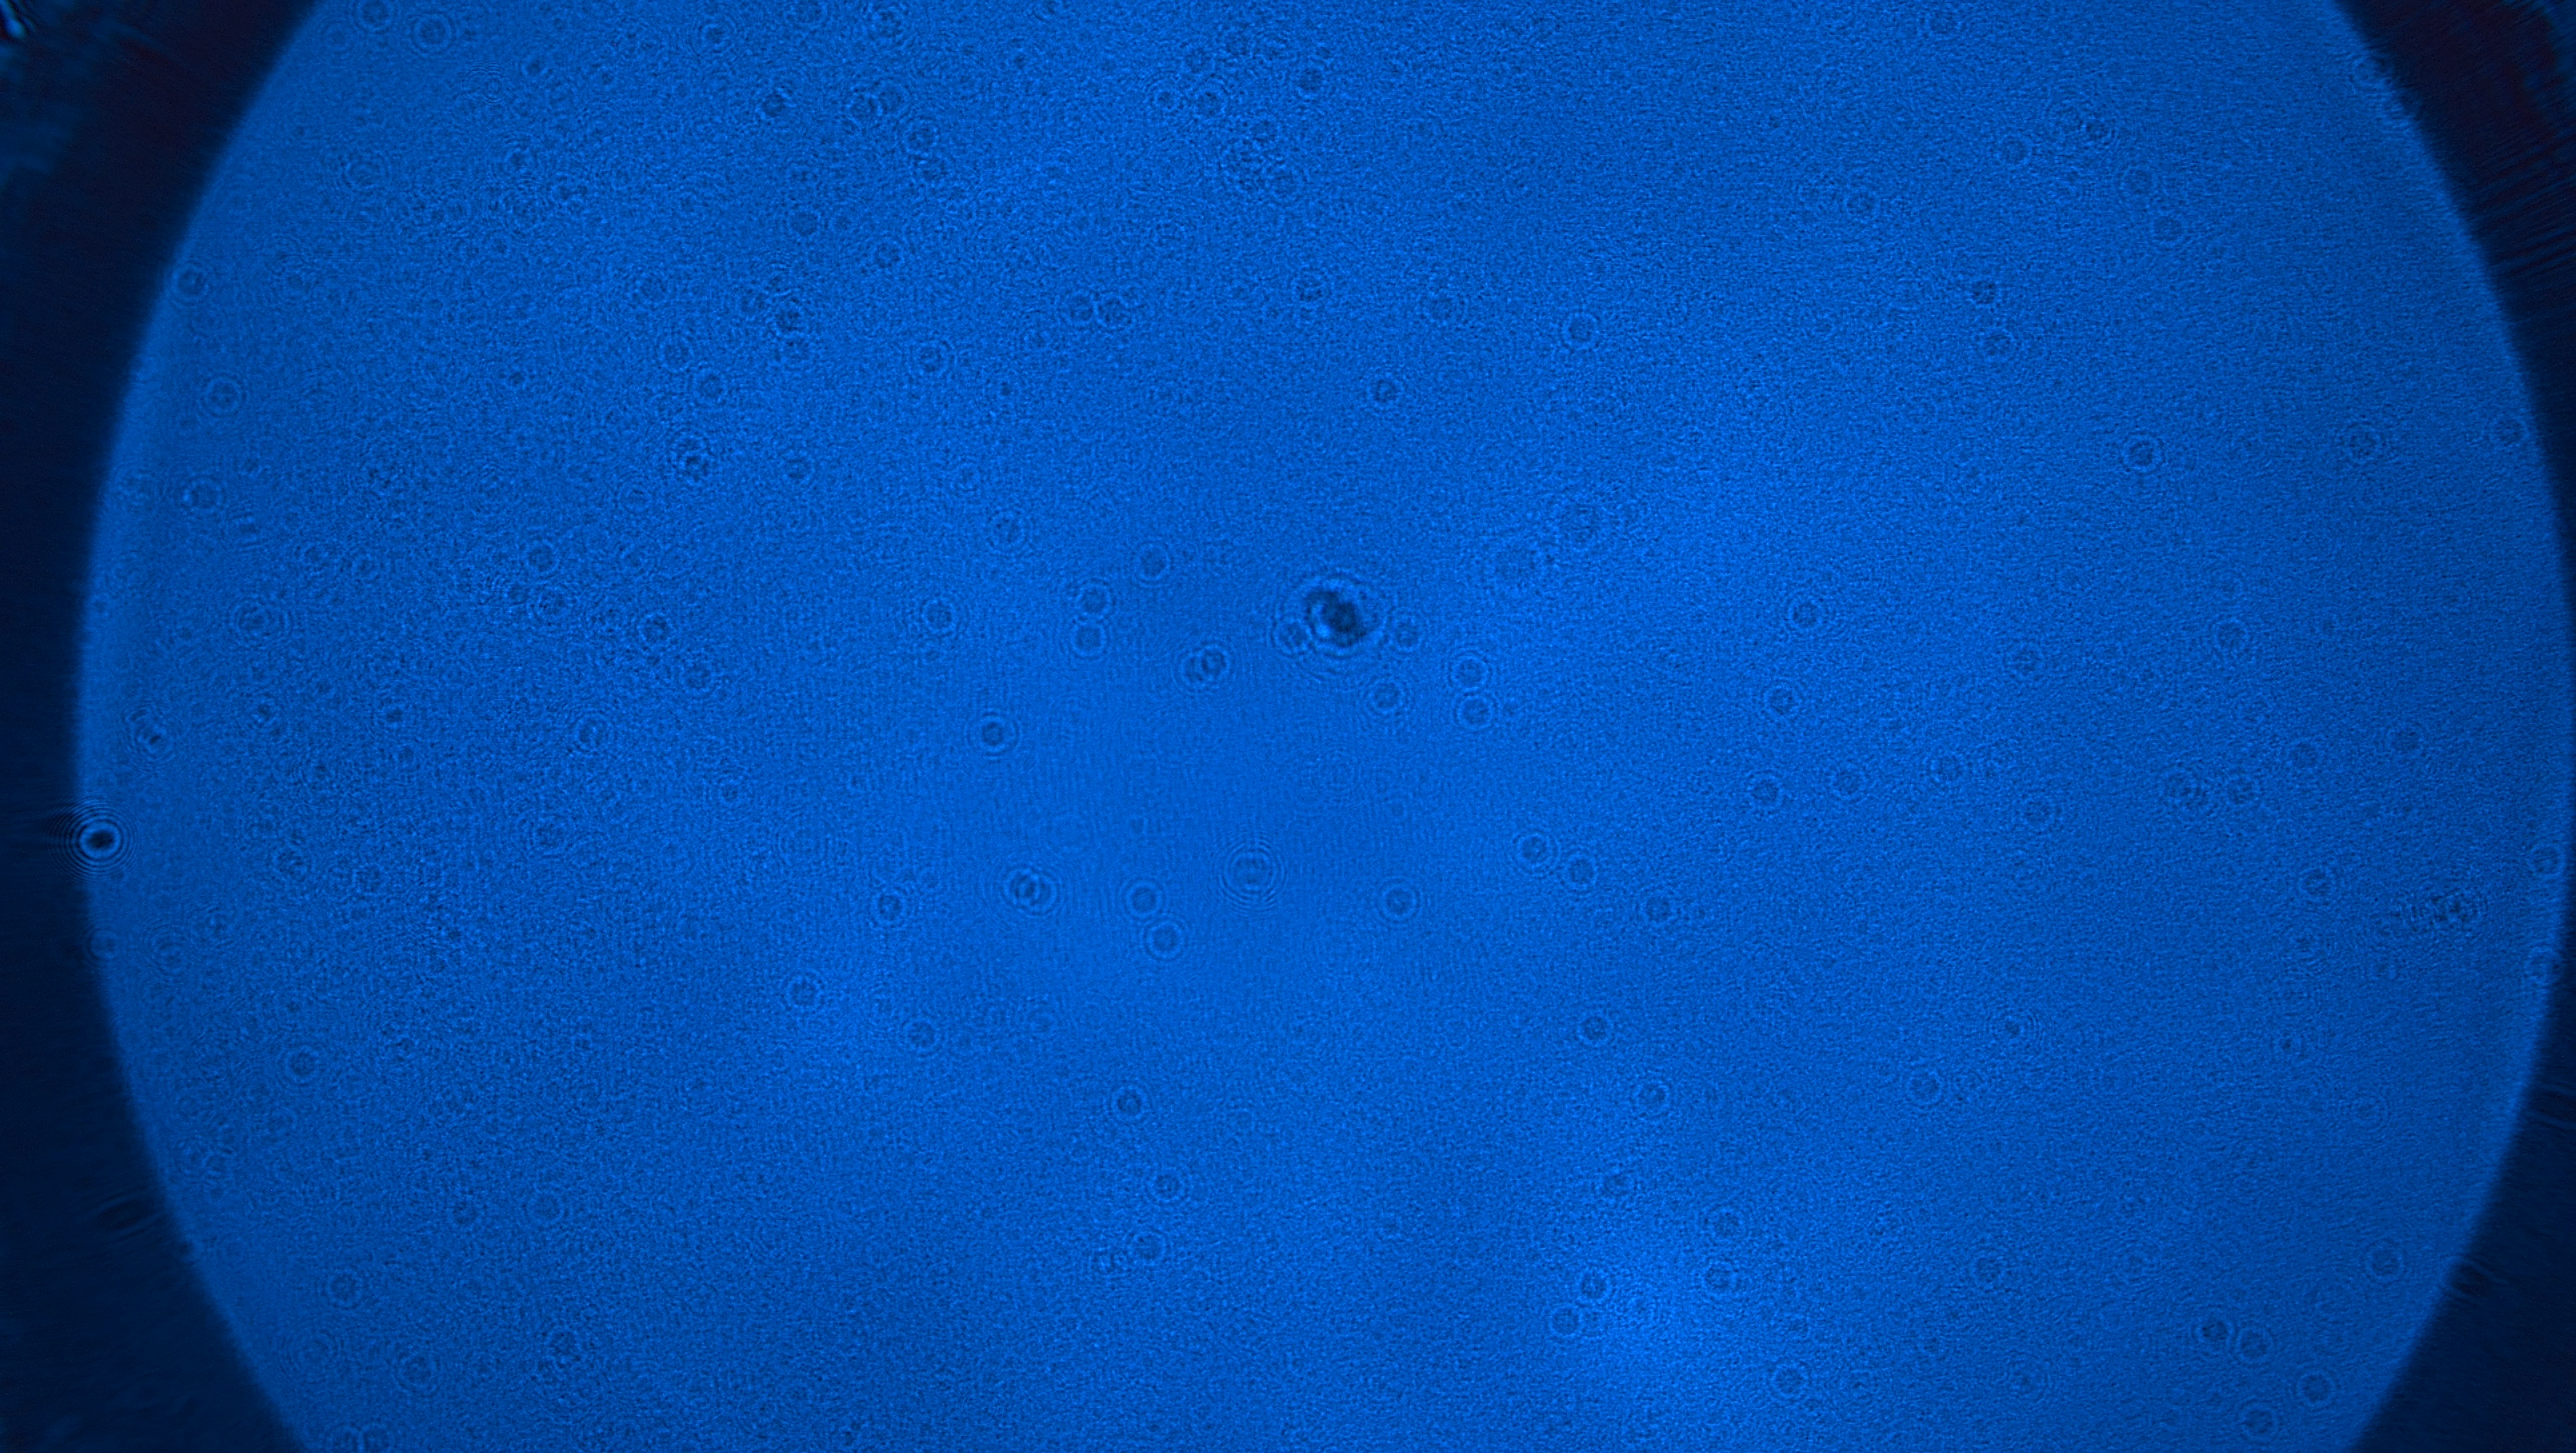bead: (1109, 529, 1192, 593), (1541, 299, 1610, 359), (1364, 873, 1430, 933), (1095, 1074, 1162, 1133), (1053, 612, 1123, 667), (2371, 710, 2433, 772), (1734, 763, 1798, 823), (1757, 1350, 1822, 1407), (1776, 584, 1836, 644), (2112, 423, 2173, 481), (517, 1177, 579, 1234), (1138, 917, 1205, 968), (773, 965, 833, 1021), (1509, 823, 1564, 885), (1746, 673, 1808, 726), (911, 589, 966, 642), (895, 1009, 952, 1060), (1442, 687, 1504, 733), (1109, 874, 1169, 920), (977, 508, 1033, 556), (1536, 1299, 1589, 1349), (1828, 757, 1877, 802)
